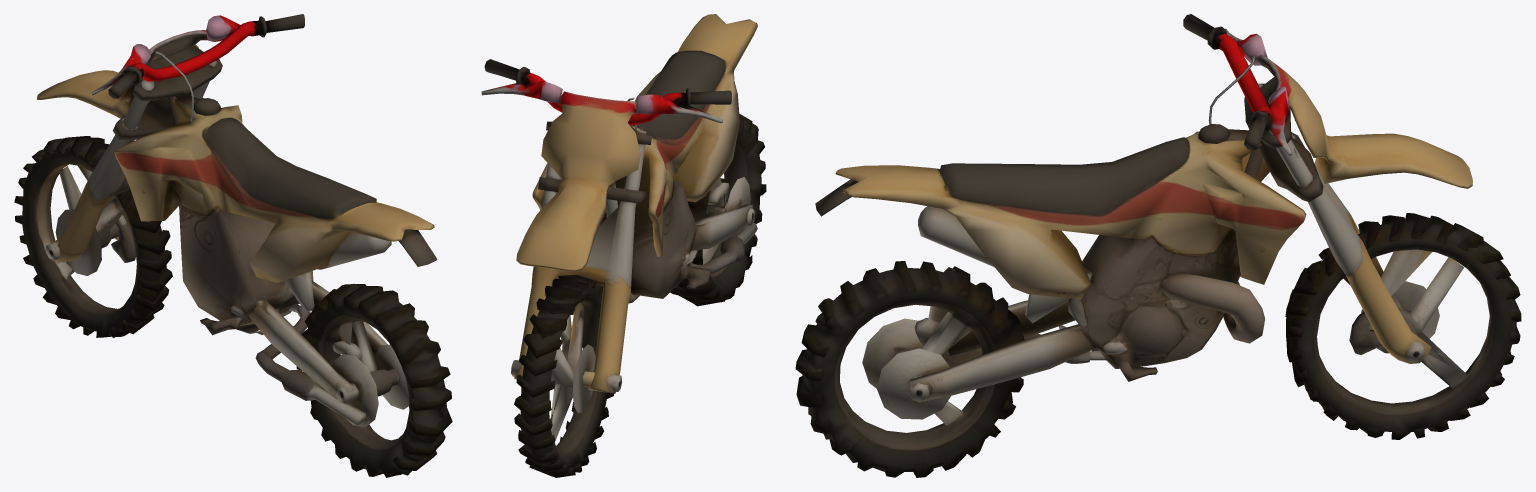
File: m_dirtbike_lod1.fbx
3 views of the same model, side by side, from view 1: azimuth 30°, elevation 25°; view 2: azimuth 150°, elevation 25°; view 3: azimuth 270°, elevation 25° (orthographic). The views are drawn at different scales.
Visible parts, largest first — view 1: m_dirtbike; view 2: m_dirtbike; view 3: m_dirtbike.
Part boxes in pixels (x1,y1,x2,y2): m_dirtbike: (14, 14, 452, 477); m_dirtbike: (481, 14, 766, 477); m_dirtbike: (795, 14, 1521, 477).
Size of the model in its own units: 0.9253 by 1.32 by 2.25.
